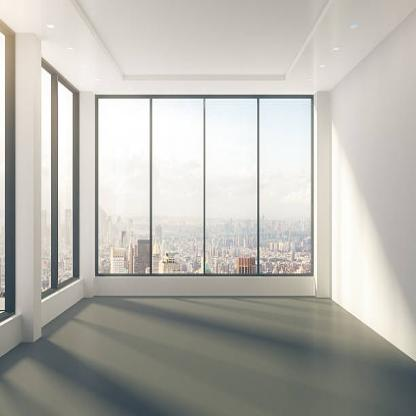Window: (93, 96, 313, 274), (40, 54, 79, 302)
